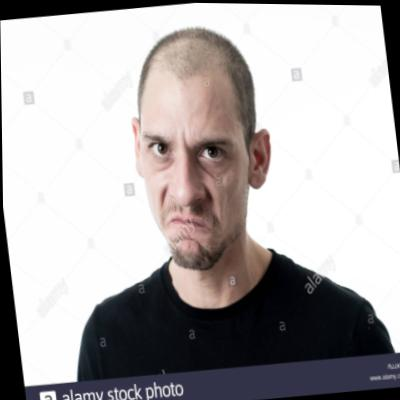angry: (109, 36, 271, 278)
